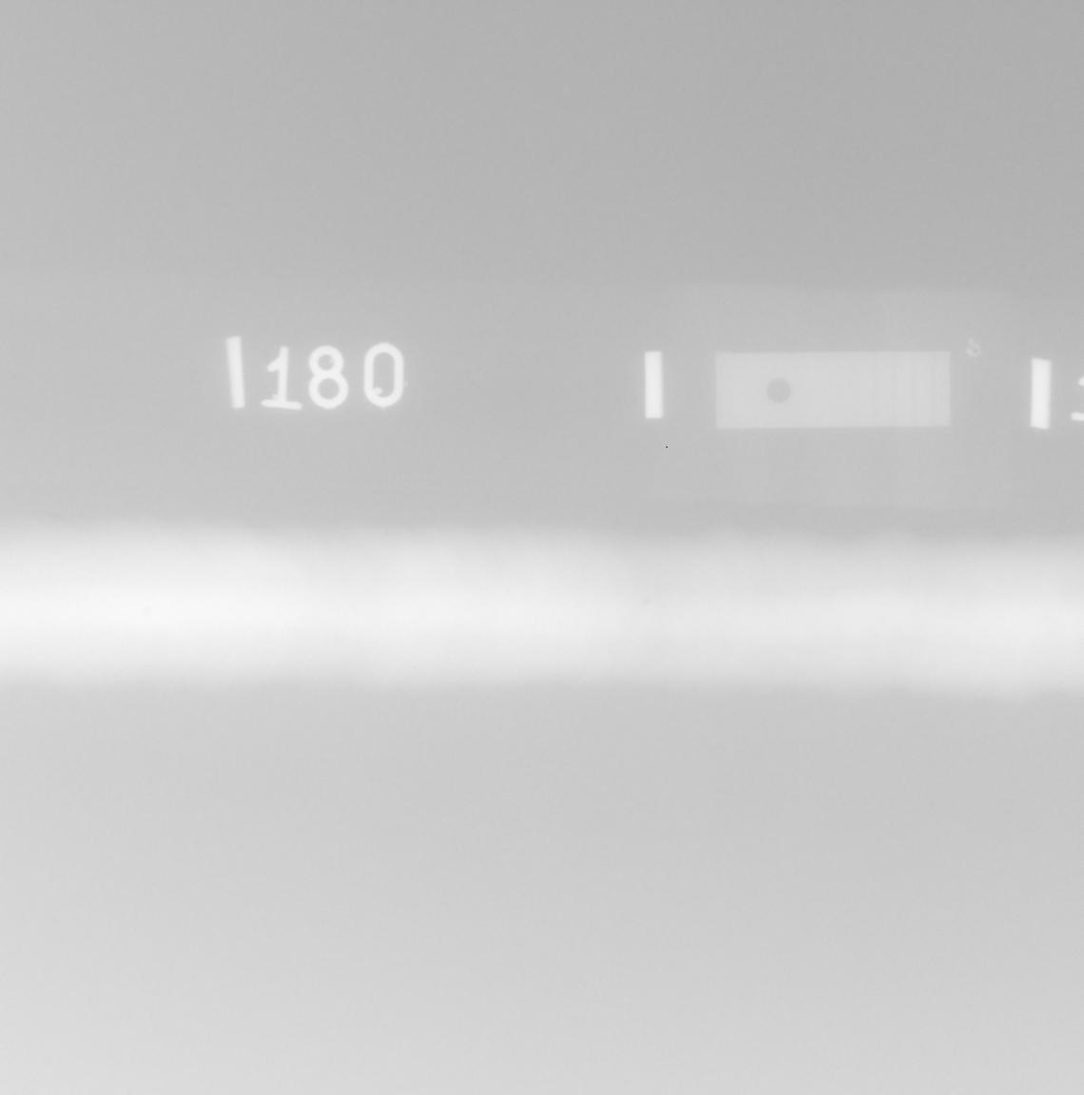Pore/Porosity: (144, 607, 151, 616), (643, 597, 651, 604), (228, 609, 233, 612)
